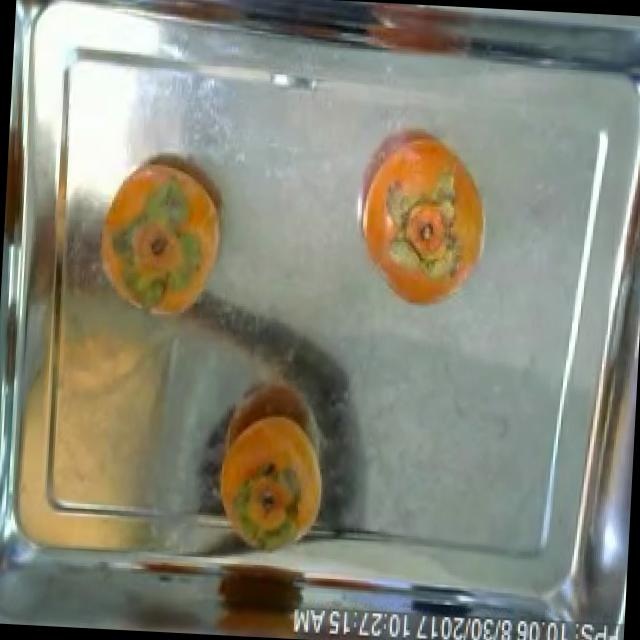Fruit: (346, 124, 502, 326), (88, 146, 236, 338), (199, 386, 344, 569), (195, 540, 318, 640)
